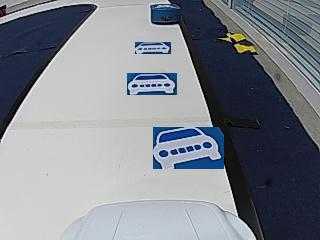prop: (151, 4, 181, 24)
